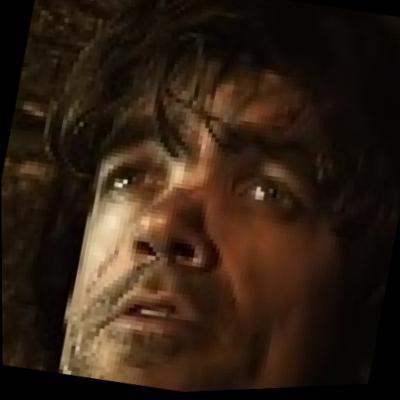sad: (59, 47, 344, 398)
